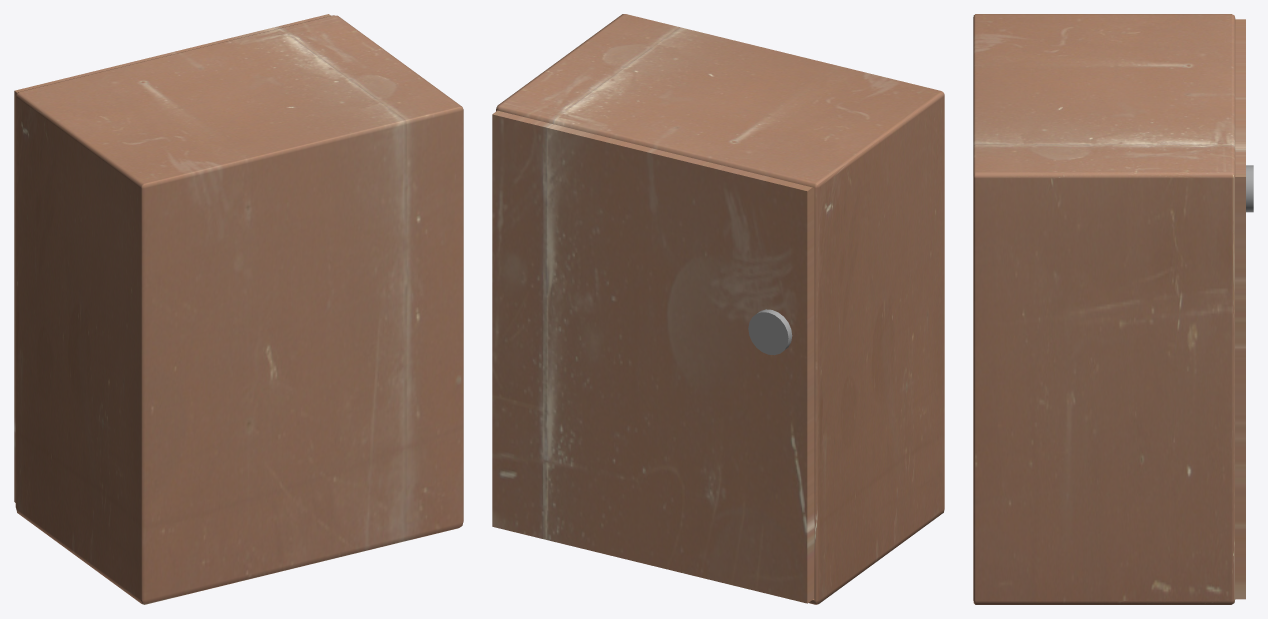
Rendered from cabinet_small.fbx.
The picture shows the model from 3 angles, left to right: view 1: azimuth 30°, elevation 25°; view 2: azimuth 150°, elevation 25°; view 3: azimuth 270°, elevation 25°; orthographic projection. The views are drawn at different scales.
Parts seen in each view (by area): view 1: polySurface1, polySurface2; view 2: polySurface2, polySurface1, pCylinder1; view 3: polySurface1, polySurface2, pCylinder1.
Part boxes in pixels (box(x1,y1,x2,y2)): polySurface1: box(15, 15, 463, 604); polySurface2: box(14, 14, 330, 502); polySurface2: box(492, 110, 814, 603); polySurface1: box(496, 14, 944, 604); pCylinder1: box(748, 309, 792, 355); polySurface1: box(973, 14, 1235, 604); polySurface2: box(1235, 19, 1245, 599); pCylinder1: box(1246, 165, 1253, 212).
Size of the model in its own units: 1.77 by 2.21 by 1.3.
Materials: 2 (1 with a texture image).
